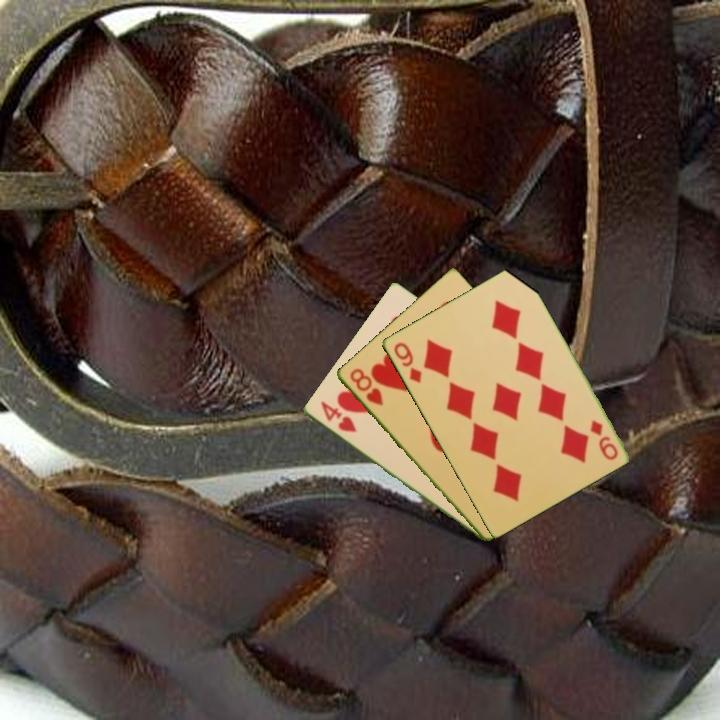4h: (316, 397, 359, 435)
8h: (346, 365, 386, 409)
9d: (586, 416, 621, 463), (390, 338, 424, 386)
